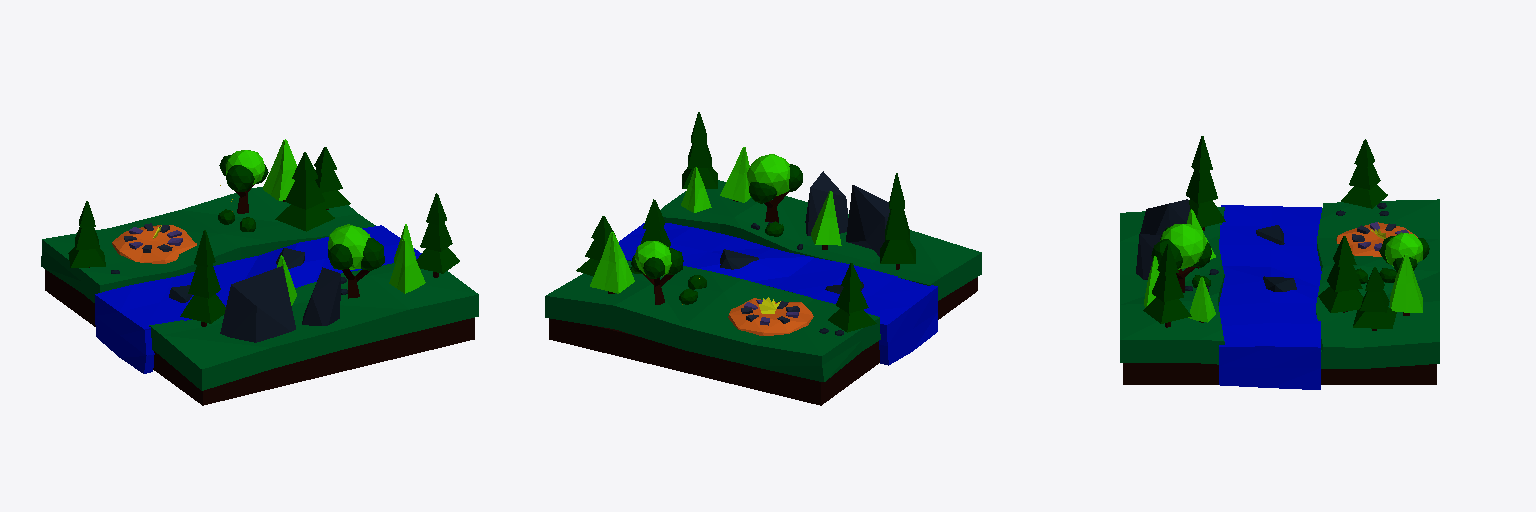
Rendered from timepass.obj.
3 views of the same model, side by side, from view 1: azimuth 30°, elevation 25°; view 2: azimuth 150°, elevation 25°; view 3: azimuth 270°, elevation 25° (orthographic).
Parts seen in each view (by area): view 1: Cube, Plane, Icosphere.001, Icosphere.003, Cube.003, Cube.009, Cube.007, Icosphere.008, Icosphere.002, Icosphere, Cube.010, Cube.002 (+2 smaller); view 2: Cube, Plane, Icosphere.003, Icosphere.001, Cube.009, Icosphere.002, Icosphere.008, Cube.010, Cube.002, Cube.007, Icosphere, Cube.008 (+4 smaller); view 3: Cube, Plane, Icosphere.003, Cube.003, Cube.007, Cube.009, Cube.010, Cube.004, Cube.002, Icosphere.002, Icosphere.001, Icosphere.008 (+2 smaller).
Boxes of the visible parts, x1=… form: Cube: x1=41, y1=187, x2=478, y2=405; Plane: x1=95, y1=225, x2=421, y2=373; Icosphere.001: x1=220, y1=266, x2=295, y2=342; Icosphere.003: x1=328, y1=224, x2=384, y2=298; Cube.003: x1=275, y1=152, x2=334, y2=231; Cube.009: x1=180, y1=230, x2=225, y2=326; Cube.007: x1=416, y1=193, x2=459, y2=277; Icosphere.008: x1=112, y1=225, x2=196, y2=263; Icosphere.002: x1=219, y1=150, x2=268, y2=213; Icosphere: x1=302, y1=267, x2=340, y2=325; Cube.010: x1=68, y1=201, x2=105, y2=267; Cube.002: x1=263, y1=139, x2=296, y2=201; Cube: x1=545, y1=180, x2=981, y2=405; Plane: x1=619, y1=223, x2=937, y2=365; Icosphere.003: x1=747, y1=154, x2=802, y2=222; Icosphere.001: x1=846, y1=185, x2=889, y2=256; Cube.009: x1=880, y1=173, x2=915, y2=269; Icosphere.002: x1=631, y1=241, x2=683, y2=304; Icosphere.008: x1=728, y1=298, x2=813, y2=335; Cube.010: x1=828, y1=263, x2=876, y2=332; Cube.002: x1=590, y1=232, x2=634, y2=293; Cube.007: x1=682, y1=112, x2=717, y2=188; Icosphere: x1=805, y1=171, x2=847, y2=235; Cube.008: x1=811, y1=191, x2=841, y2=249; Cube: x1=1120, y1=199, x2=1439, y2=384; Plane: x1=1219, y1=205, x2=1321, y2=389; Icosphere.003: x1=1151, y1=224, x2=1211, y2=292; Cube.003: x1=1318, y1=236, x2=1363, y2=312; Cube.007: x1=1143, y1=244, x2=1191, y2=327; Cube.009: x1=1186, y1=136, x2=1225, y2=230; Cube.010: x1=1341, y1=139, x2=1387, y2=208; Cube.004: x1=1353, y1=267, x2=1396, y2=330; Cube.002: x1=1390, y1=254, x2=1422, y2=315; Icosphere.002: x1=1379, y1=232, x2=1429, y2=272; Icosphere.001: x1=1140, y1=199, x2=1189, y2=234; Icosphere.008: x1=1336, y1=222, x2=1417, y2=256.
Bounding box in the file's own units: 6.91 × 3.41 × 6.5.